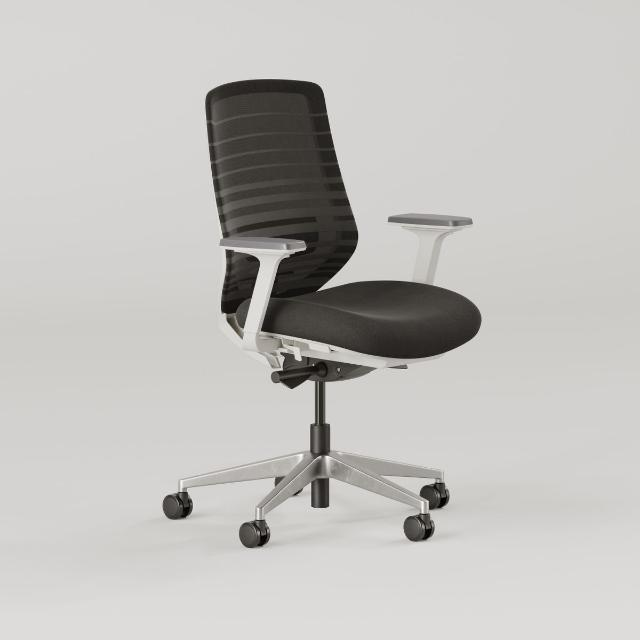obstacle: (108, 41, 502, 601)
